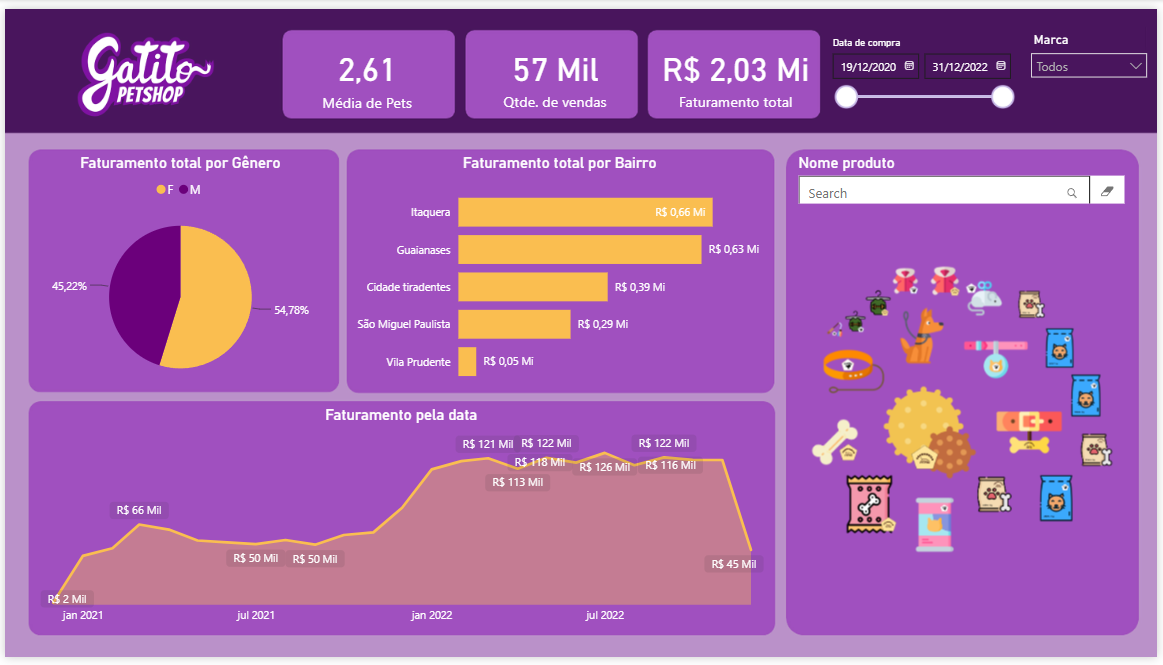

What the dashboard file says about the page in this screenshot:
{"tool":"powerbi","page":{"name":"Página 1","canvas":[1280,720],"ordinal":0},"visuals":[{"type":"card","fields":{"Values":["Avg(Clientes.Pets)"]},"box":[311.4,25.6,182.6,98.8],"z":0},{"type":"card","fields":{"Values":["Sum(Vendas.Quantidade)"]},"box":[530.2,29.1,162.3,91.7],"z":1000},{"type":"card","fields":{"Values":["Vendas.Faturamento total"]},"box":[699.5,21.2,223.7,105.8],"z":2000},{"type":"pieChart","fields":{"Category":["Clientes.Gênero"],"Y":["Vendas.Faturamento total"]},"box":[23.5,161,343.2,270.3],"z":3000},{"type":"clusteredBarChart","fields":{"Category":["Clientes.Bairro"],"Y":["Vendas.Faturamento total"]},"box":[377.5,161.5,477.4,269.5],"z":4000},{"type":"areaChart","title":"Faturamento pela data","fields":{"Category":["Vendas.Data de compra.Variation.Hierarquia de datas.Ano","Vendas.Data de compra.Variation.Hierarquia de datas.Trimestre","Vendas.Data de compra.Variation.Hierarquia de datas.Mês","Vendas.Data de compra.Variation.Hierarquia de datas.Dia"],"Y":["Vendas.Faturamento total"]},"box":[25.6,441.4,829.3,250.9],"z":5000},{"type":"ImageGrid_FC5183B9_926C_45E0_B5F7_0CE9EAF1DA9B","fields":{"ImageURL":["Produtos.Url img"]},"box":[870,196.3,387.9,496],"z":6000},{"type":"textFilter25A4896A83E0487089E2B90C9AE57C8A","fields":{"field":["Produtos.Nome produto"]},"box":[877,161.5,371.7,60.4],"z":7000},{"type":"slicer","fields":{"Values":["Produtos.Marca"]},"box":[1129.6,21.2,149.3,89.3],"z":8000},{"type":"slicer","fields":{"Values":["Vendas.Data de compra"]},"box":[906.2,25.9,223.3,95.2],"z":9000}]}

Visuals, with their boxes in screenshot pixels (x1, y1, x2, y2), scaled from the page's 1280x720 canvas onto the 1163x665 screenshot:
card - Avg(Clientes.Pets): l=283, t=24, r=449, b=115
card - Sum(Vendas.Quantidade): l=482, t=27, r=629, b=112
card - Vendas.Faturamento total: l=636, t=20, r=839, b=117
pieChart - Clientes.Gênero x Vendas.Faturamento total: l=21, t=149, r=333, b=398
clusteredBarChart - Clientes.Bairro x Vendas.Faturamento total: l=343, t=149, r=777, b=398
"Faturamento pela data" areaChart: l=23, t=408, r=777, b=639
ImageGrid_FC5183B9_926C_45E0_B5F7_0CE9EAF1DA9B - Produtos.Url img: l=790, t=181, r=1143, b=639
textFilter25A4896A83E0487089E2B90C9AE57C8A - Produtos.Nome produto: l=797, t=149, r=1135, b=205
slicer - Produtos.Marca: l=1026, t=20, r=1162, b=102
slicer - Vendas.Data de compra: l=823, t=24, r=1026, b=112
